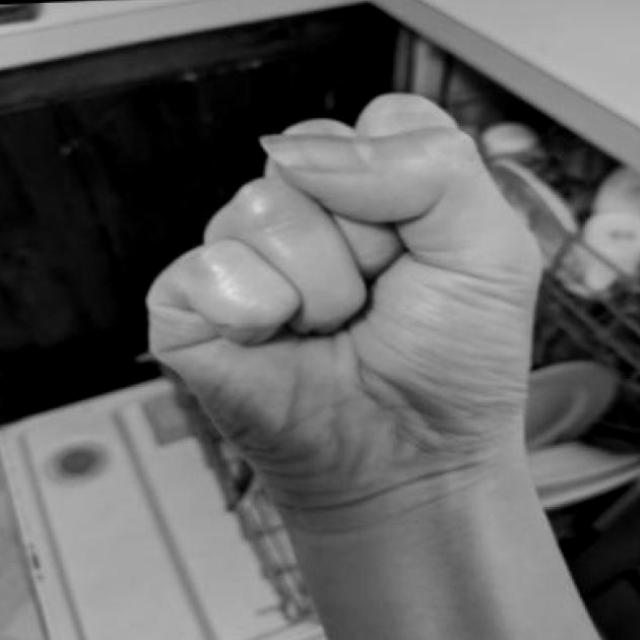S: (0, 72, 640, 640)
